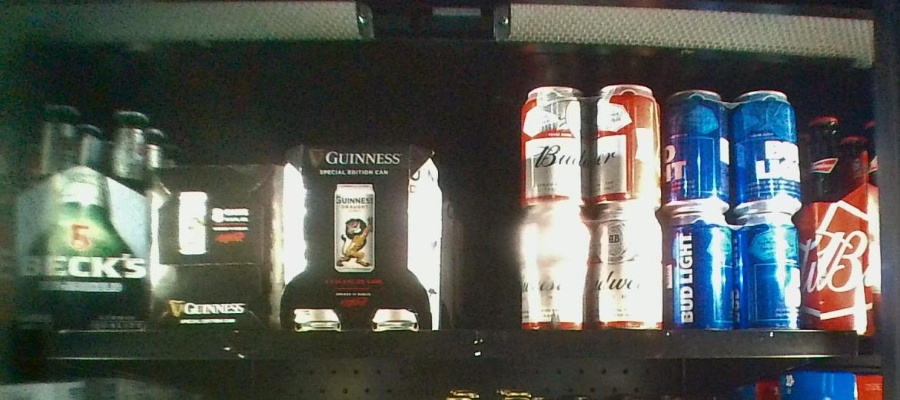bottle: (517, 86, 663, 328), (1, 101, 151, 326), (663, 91, 802, 328), (282, 144, 438, 330), (147, 163, 282, 335)
